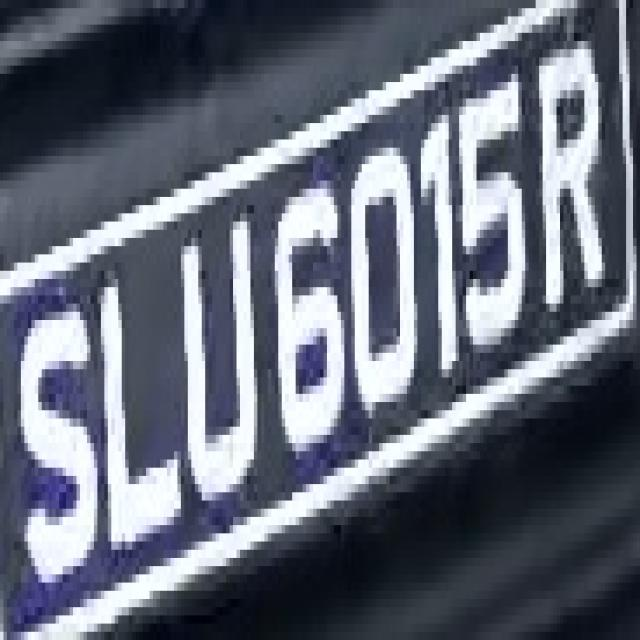0: (338, 140, 418, 418)
1: (411, 74, 459, 386)
5: (452, 74, 532, 369)
6: (264, 172, 348, 460)
L: (90, 255, 178, 574)
R: (525, 41, 602, 345)
S: (14, 279, 94, 591)
U: (174, 205, 264, 533)
